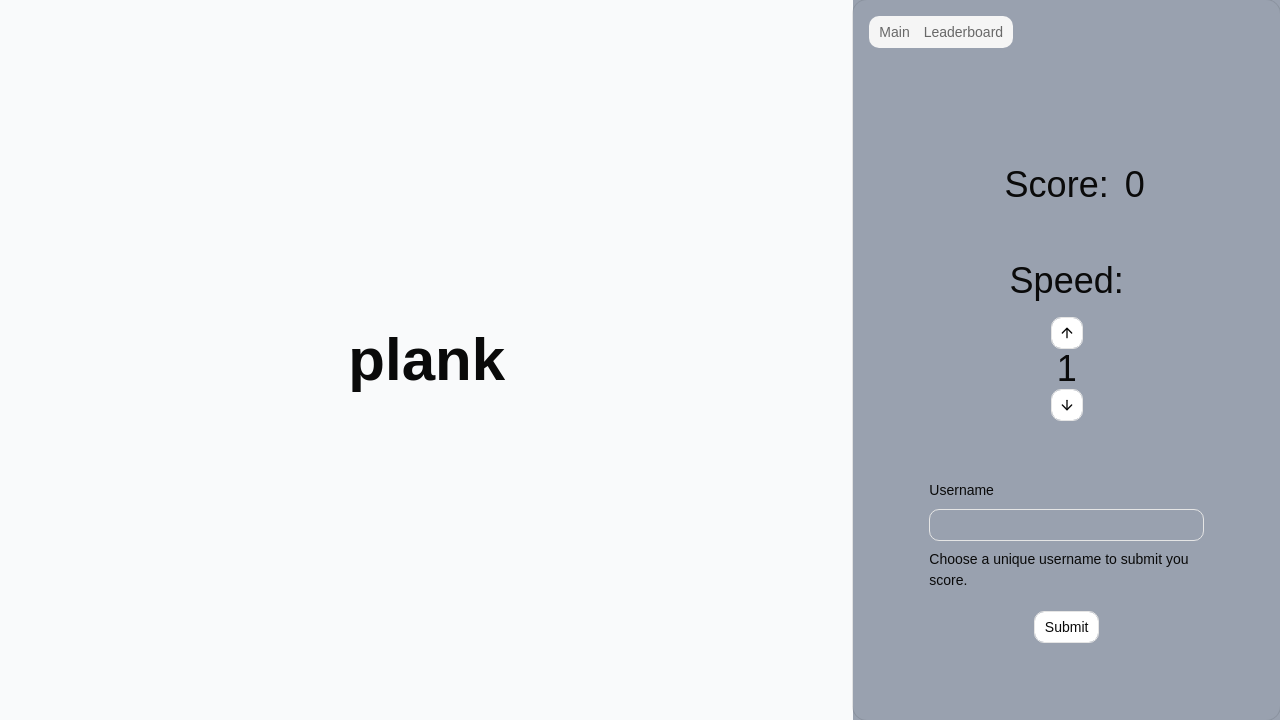
it: Leaderboard › shows the leaderboard tab content when clicked
This screenshot has width=1280, height=720.
Press the mouse on the tab "Leaderboard" at (963, 32), box left=917, top=19, right=1010, bottom=45
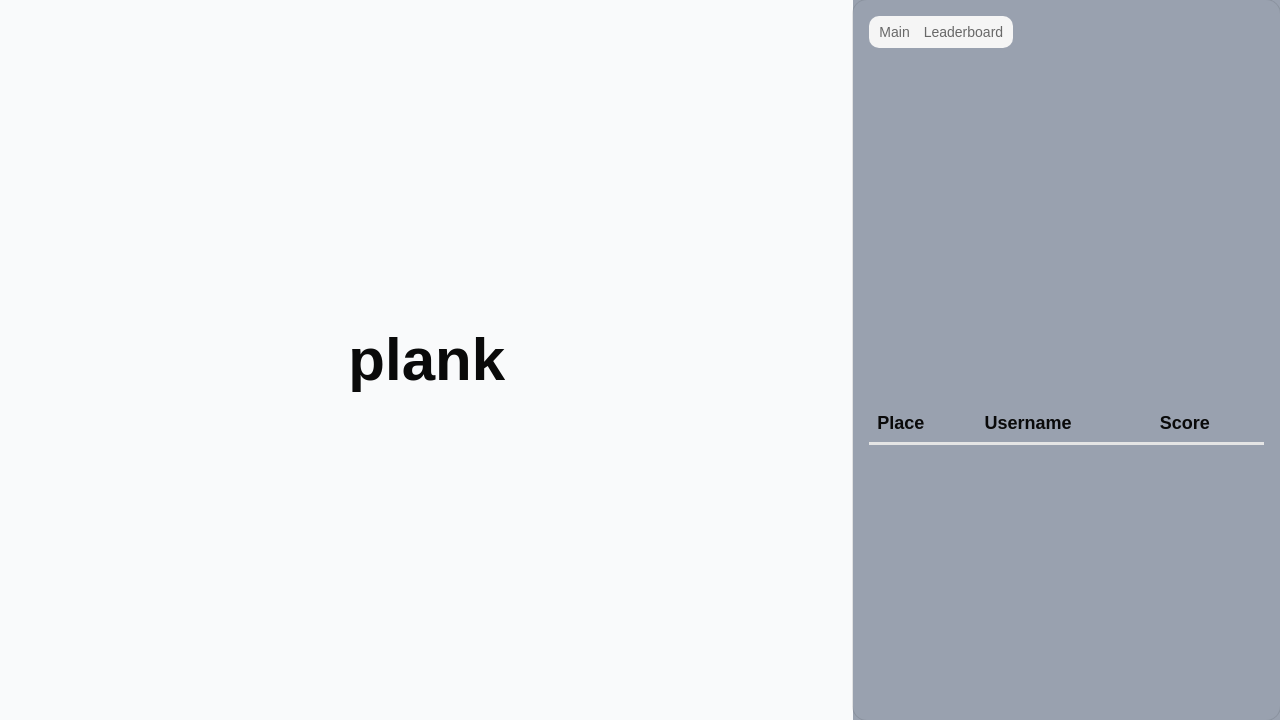
Check: the column heading "Username" is shown, box left=976, top=403, right=1152, bottom=443
Check: the column heading "Place" is shown, box left=869, top=403, right=976, bottom=443
